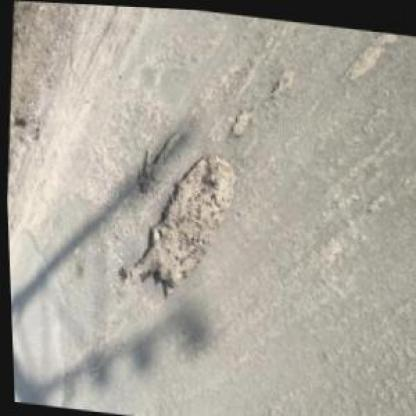pothole: (108, 143, 241, 305), (130, 122, 184, 196), (224, 100, 254, 140), (233, 408, 290, 414)
